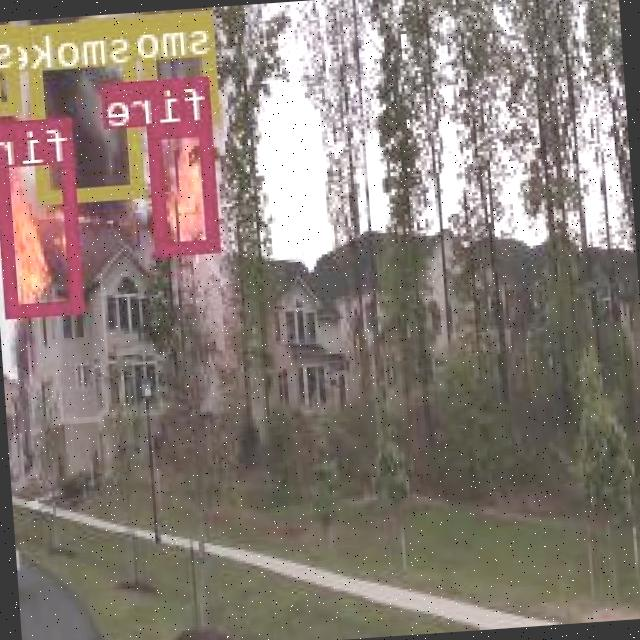fire: (0, 115, 85, 313), (150, 119, 223, 252)
smoke: (27, 15, 146, 200), (144, 8, 221, 124), (0, 21, 24, 112)
